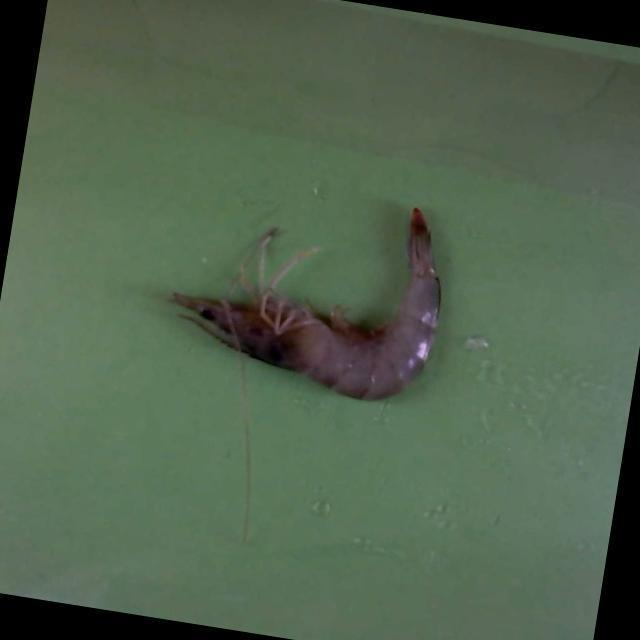shrimp: (171, 206, 440, 400)
